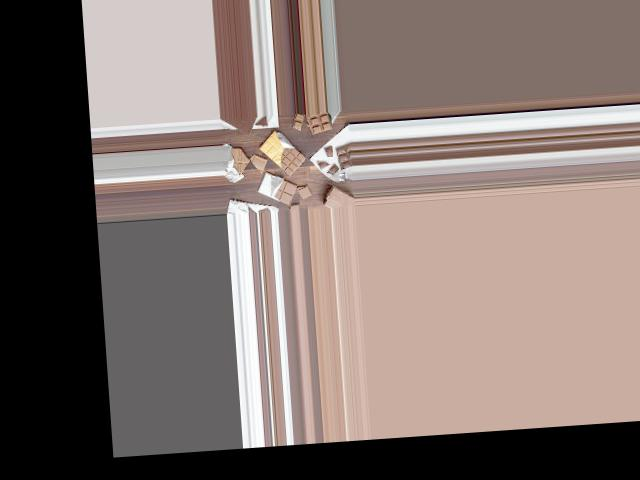chocolate: (259, 169, 298, 210)
